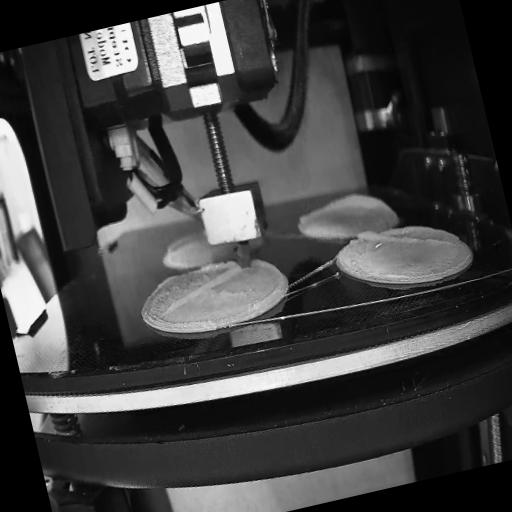over_extrusion: (355, 206, 456, 269), (155, 261, 246, 318), (294, 186, 394, 234), (164, 229, 208, 257)
